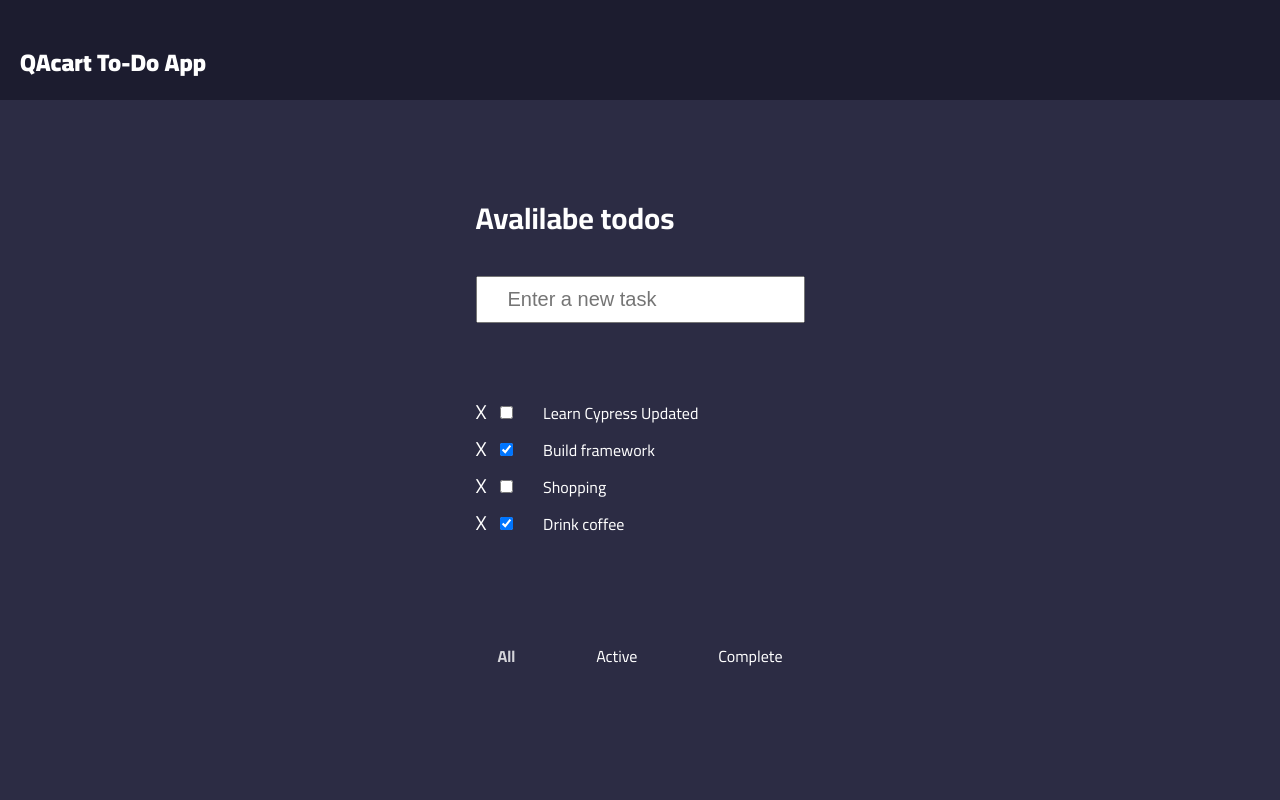
Test case: filter functionality test cases › should filter out the complete todos correctly
Click the link "Complete".
click(750, 656)  # box x1=716 y1=641 x2=784 y2=671
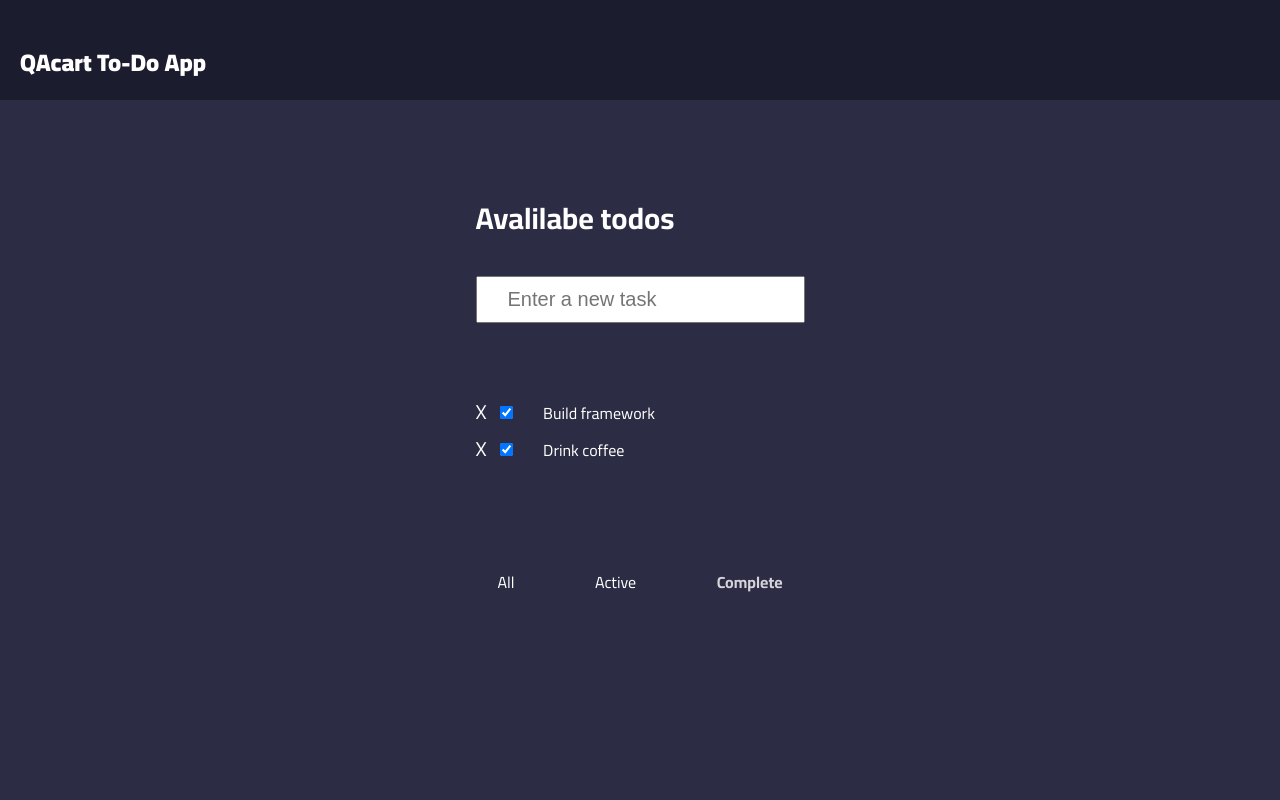
Expected: the checkbox with class "todo-checkbox" next to "Drink coffee" is checked, x1=500 y1=443 x2=513 y2=456
Expected: the checkbox with class "todo-checkbox" next to "Build framework" is checked, x1=500 y1=406 x2=513 y2=419
